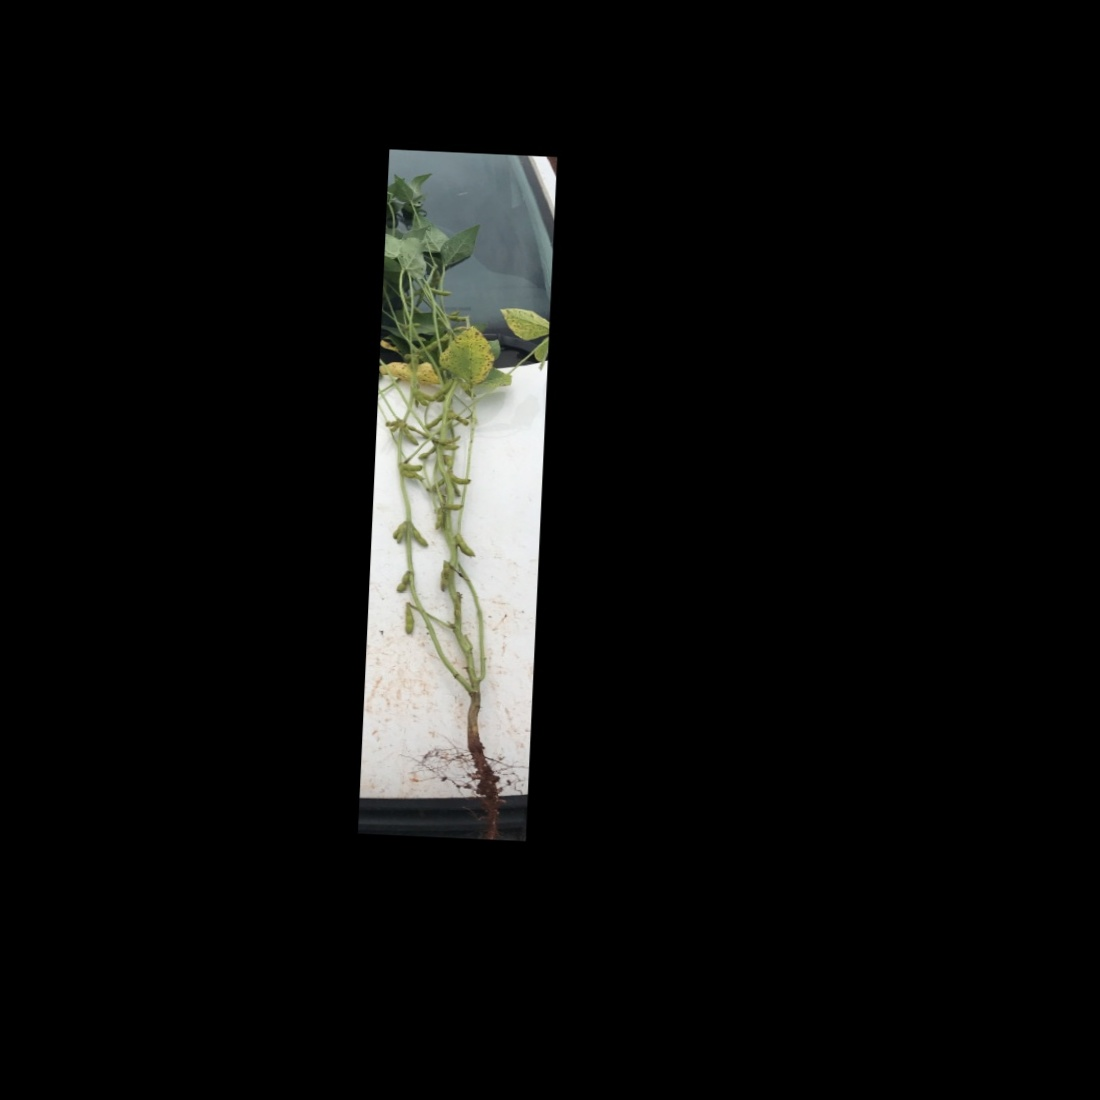pod: (392, 568, 412, 596), (456, 533, 478, 558), (402, 602, 417, 637), (400, 424, 421, 447), (412, 386, 433, 407), (410, 525, 429, 548), (421, 411, 443, 430), (399, 462, 427, 474), (449, 473, 472, 486)
soy: (363, 190, 554, 801)
